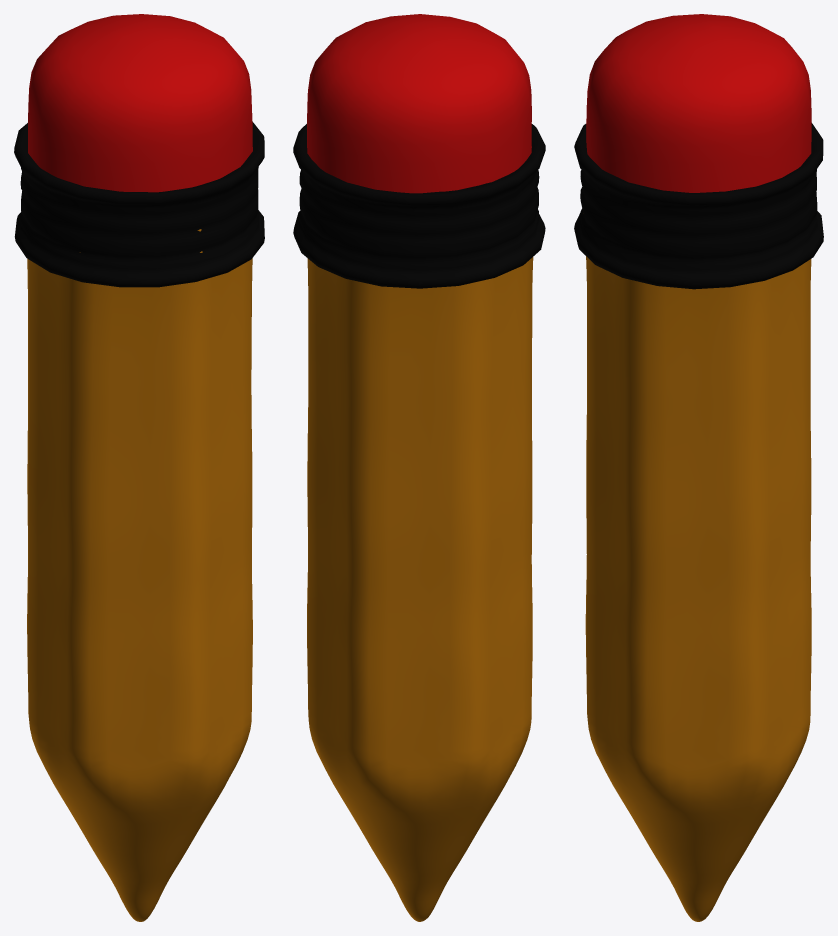
Rendered from pencil.FBX.
3 views of the same model, side by side, from view 1: azimuth 30°, elevation 25°; view 2: azimuth 150°, elevation 25°; view 3: azimuth 270°, elevation 25° (orthographic).
Parts seen in each view (by area): view 1: Group60637, Group20290, Group15427; view 2: Group60637, Group20290, Group15427; view 3: Group60637, Group20290, Group15427.
Boxes of the visible parts, x1,y1,x2,y2 form: Group60637: [27, 229, 252, 921]; Group20290: [28, 14, 252, 192]; Group15427: [14, 121, 264, 287]; Group60637: [307, 257, 533, 921]; Group20290: [307, 14, 531, 193]; Group15427: [293, 124, 545, 288]; Group60637: [585, 256, 811, 921]; Group20290: [586, 14, 811, 192]; Group15427: [574, 123, 823, 289].
Bounding box in the file's own units: 6.65 × 25.85 × 6.58.
